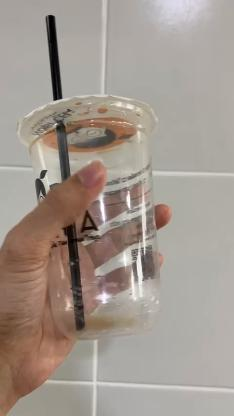Plastic Cup: (15, 93, 165, 340)
